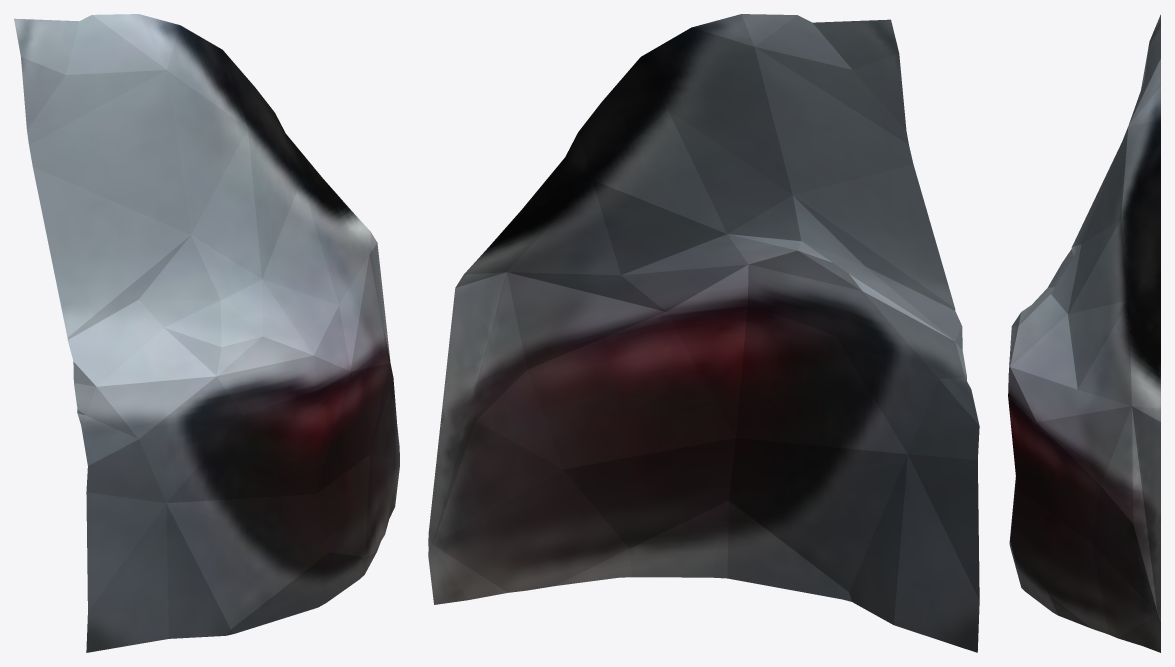
The picture shows the model from 3 angles, left to right: view 1: azimuth 30°, elevation 25°; view 2: azimuth 150°, elevation 25°; view 3: azimuth 270°, elevation 25°; orthographic projection. The views are drawn at different scales.
Size of the model in its own units: 0.5167 by 0.7436 by 0.2128.
Materials: 1 (1 with a texture image).
